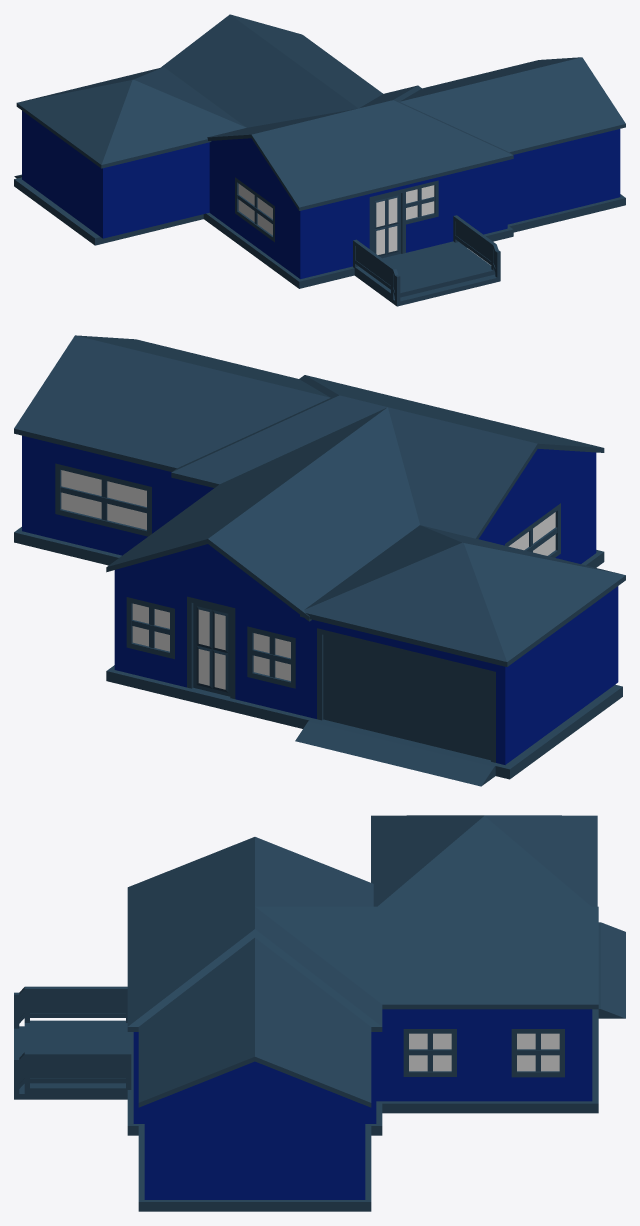
Rendered from House #27.fbx.
3 views of the same model, one above another, from view 1: azimuth 30°, elevation 25°; view 2: azimuth 150°, elevation 25°; view 3: azimuth 270°, elevation 25° (orthographic). The views are drawn at different scales.
Visible parts, largest first — view 1: building_001; view 2: building_001; view 3: building_001.
Part boxes in pixels (box(x1,y1,x2,y2)): building_001: box(14, 14, 625, 306); building_001: box(14, 335, 625, 786); building_001: box(14, 815, 625, 1211).
Size of the model in its own units: 1272 by 330 by 1148.
